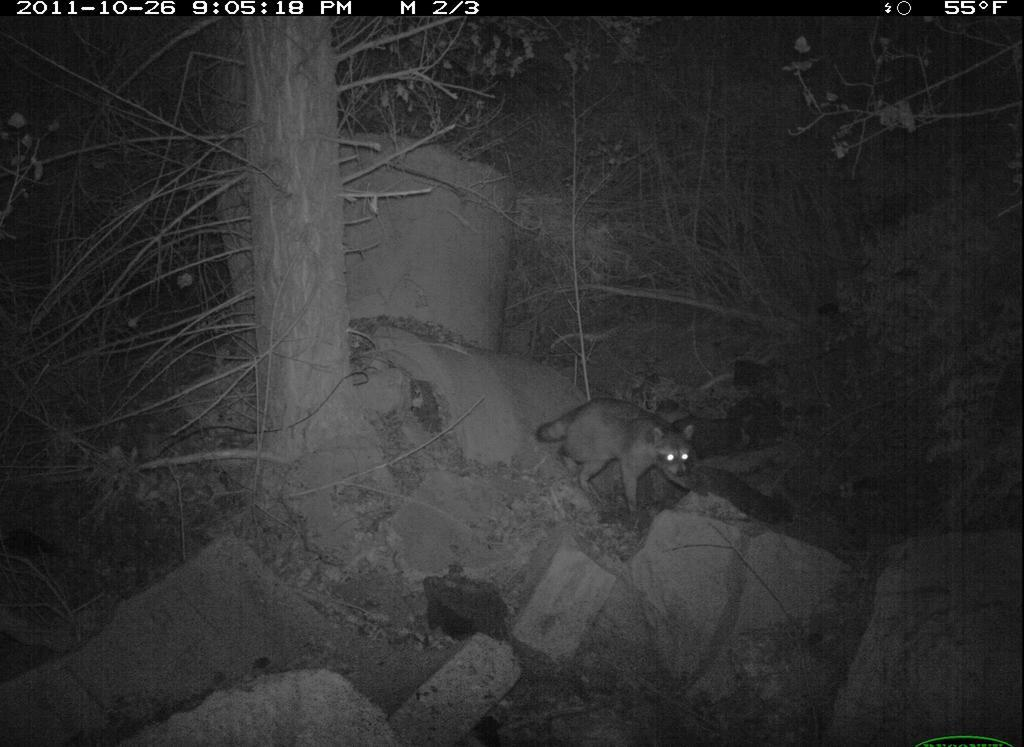raccoon: (537, 388, 703, 523)
